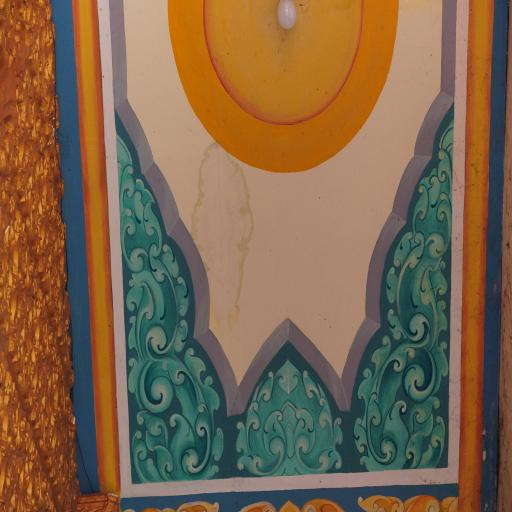hoa: (237, 493, 346, 512), (359, 492, 462, 512), (121, 495, 226, 512)
la: (0, 0, 87, 511), (116, 119, 230, 479), (356, 118, 453, 468), (230, 353, 347, 477)
